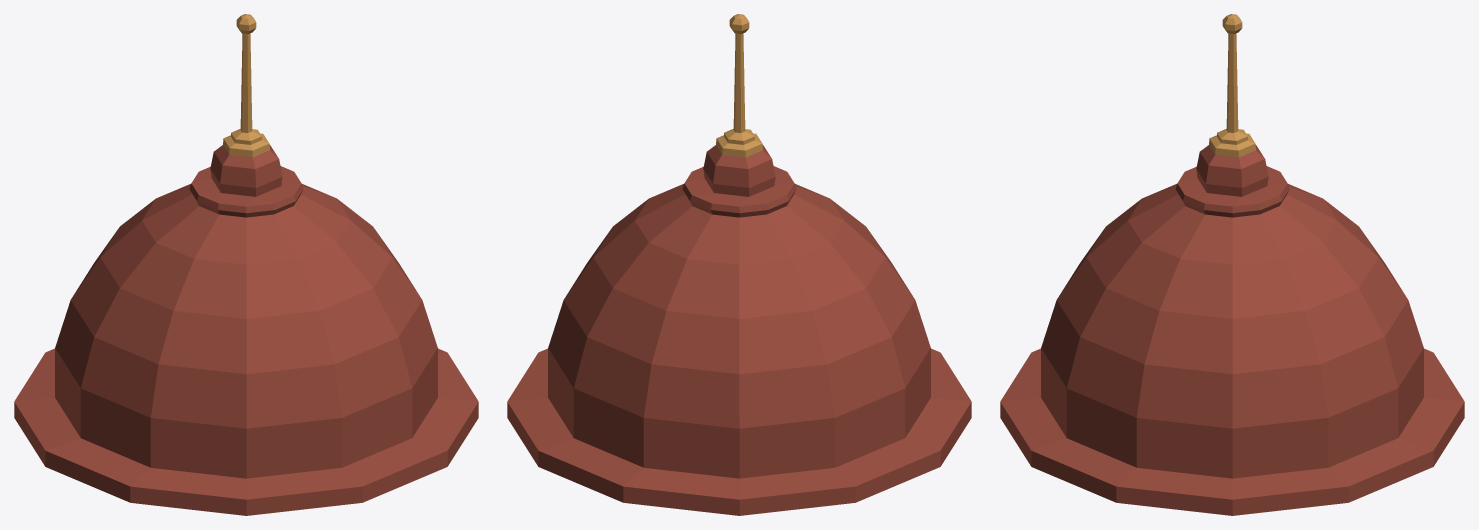
File: SM_Bld_Roof_Cap_02.glb
3 renders of one model, left to right at view 1: azimuth 30°, elevation 25°; view 2: azimuth 150°, elevation 25°; view 3: azimuth 270°, elevation 25°, orthographic.
Parts seen in each view (by area): view 1: SM_Bld_Roof_Cap_02; view 2: SM_Bld_Roof_Cap_02; view 3: SM_Bld_Roof_Cap_02.
Boxes of the visible parts, box(x1,y1,x2,y2) form: SM_Bld_Roof_Cap_02: box(14, 14, 478, 515); SM_Bld_Roof_Cap_02: box(507, 14, 971, 515); SM_Bld_Roof_Cap_02: box(1000, 14, 1464, 515).
Bounding box in the file's own units: 5.23 × 5.01 × 5.23.
1 material, 1 textured.
